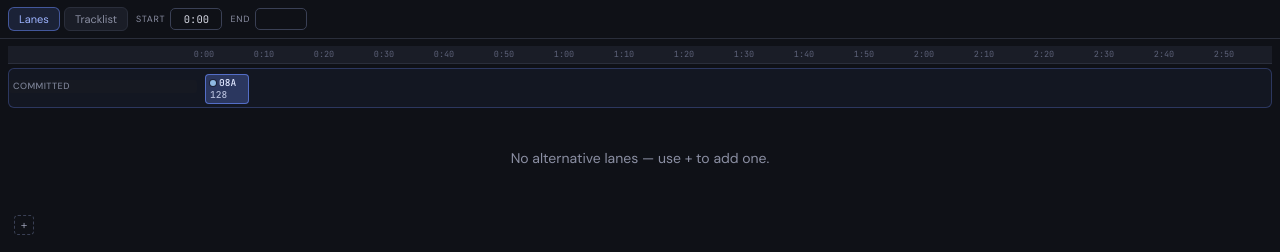
Test: Sequencer tracklist view › renders Notes with the timing columns and no redundant Plays
Click the button "Tracklist": x=96, y=19 [64,7,128,31]
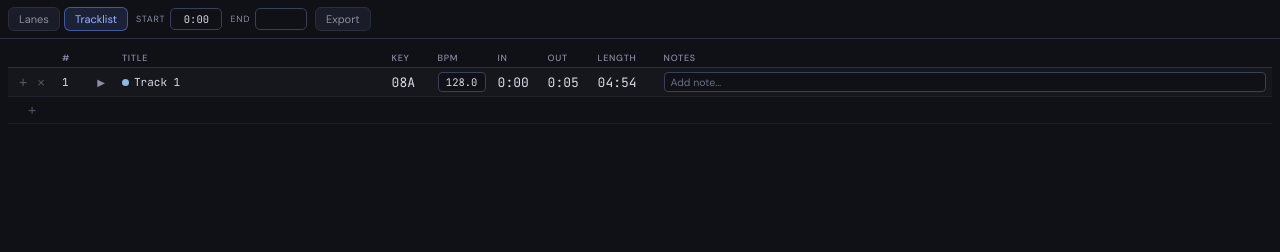
Now the field named "Notes for Track 1" is shown, box [664,72,1266,92]
